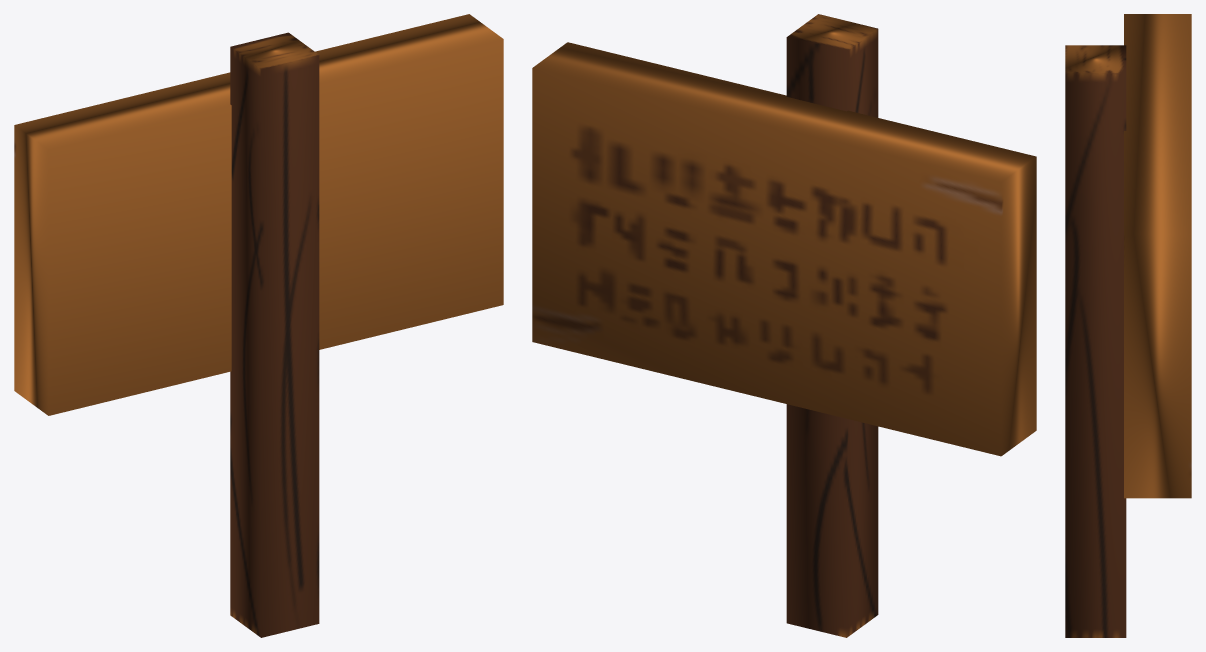
File: Sign.fbx
3 renders of one model, left to right at view 1: azimuth 30°, elevation 25°; view 2: azimuth 150°, elevation 25°; view 3: azimuth 270°, elevation 25°, orthographic. The views are drawn at different scales.
Parts seen in each view (by area): view 1: Sign; view 2: Sign; view 3: Sign.
Part boxes in pixels (x1,y1,x2,y2): Sign: (14,14,503,637); Sign: (532,14,1036,637); Sign: (1065,14,1191,637).
Size of the model in its own units: 4.2 by 5.01 by 1.02.
Materials: 1 (1 with a texture image).
